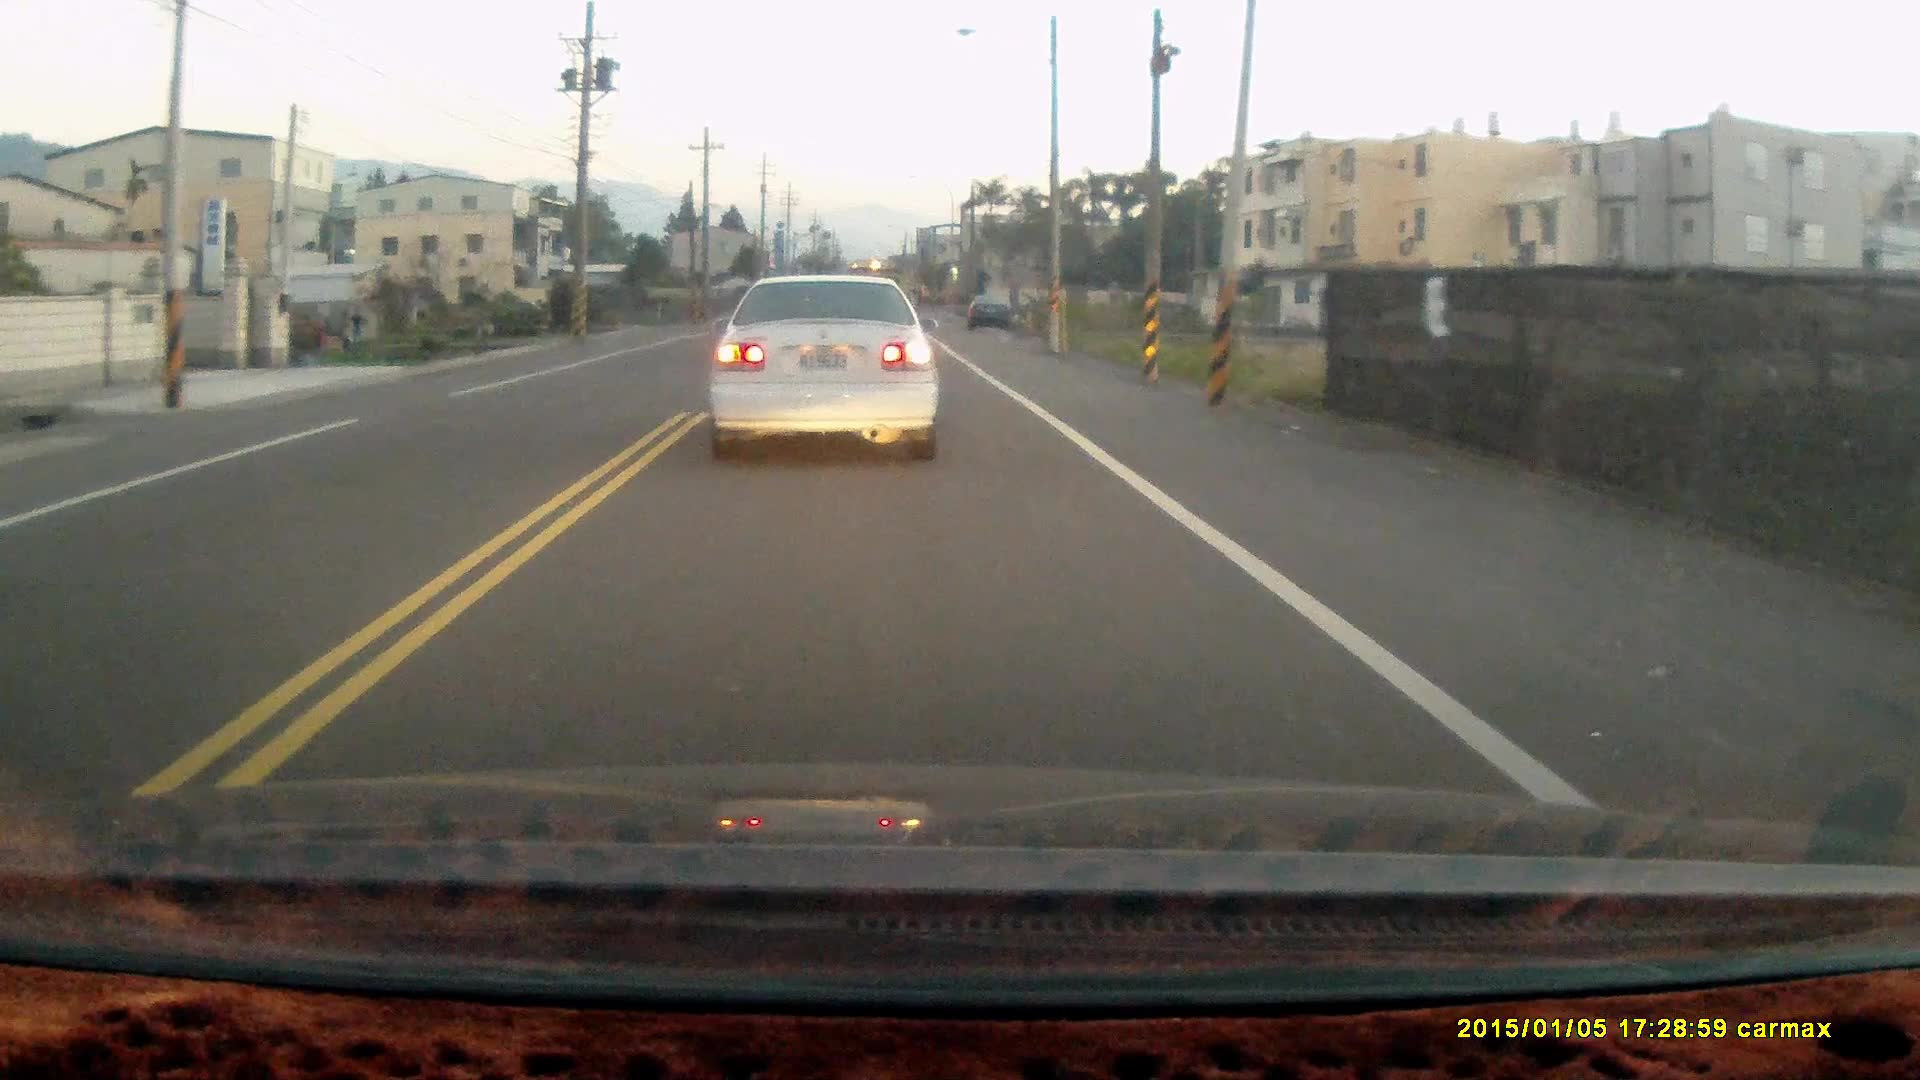vehicle: (709, 277, 945, 472), (967, 295, 1017, 338)
